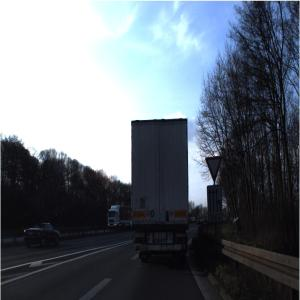give way: (206, 156, 223, 184)
